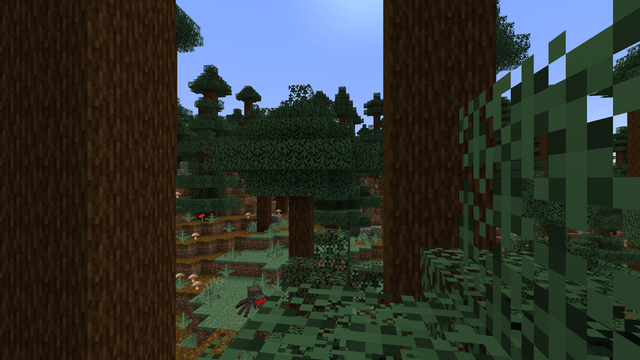araignees: (237, 284, 273, 314)
